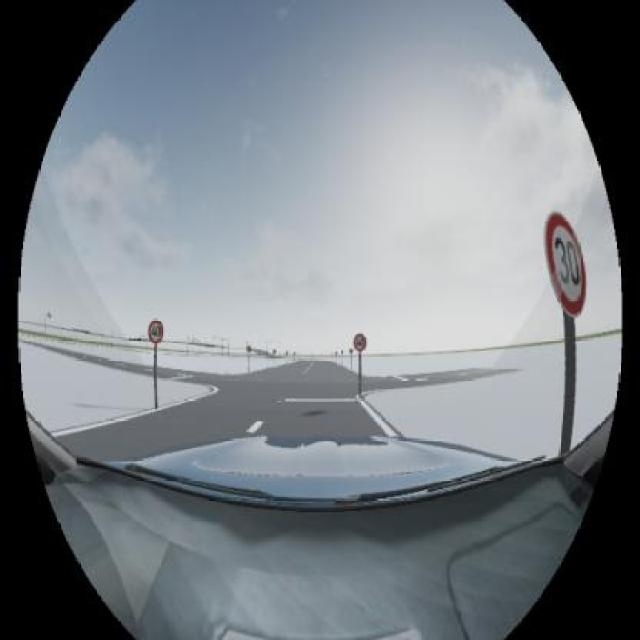forb_speed_over_40: (148, 320, 164, 343), (353, 332, 367, 351)
